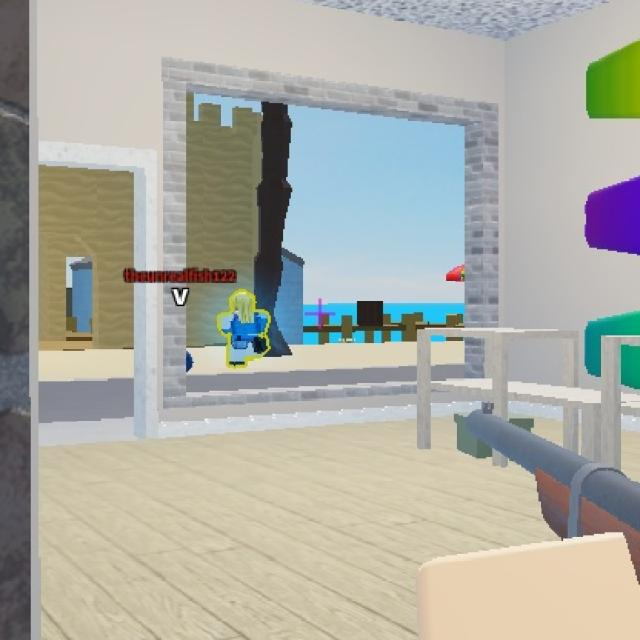player: (217, 288, 268, 370)
